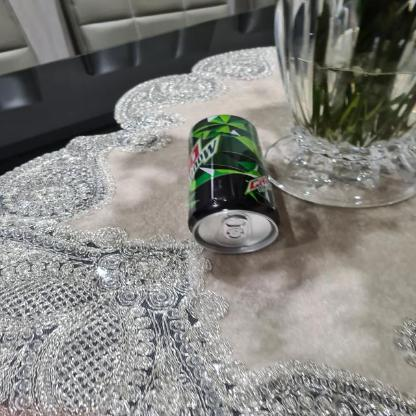Can: (187, 116, 281, 257)
